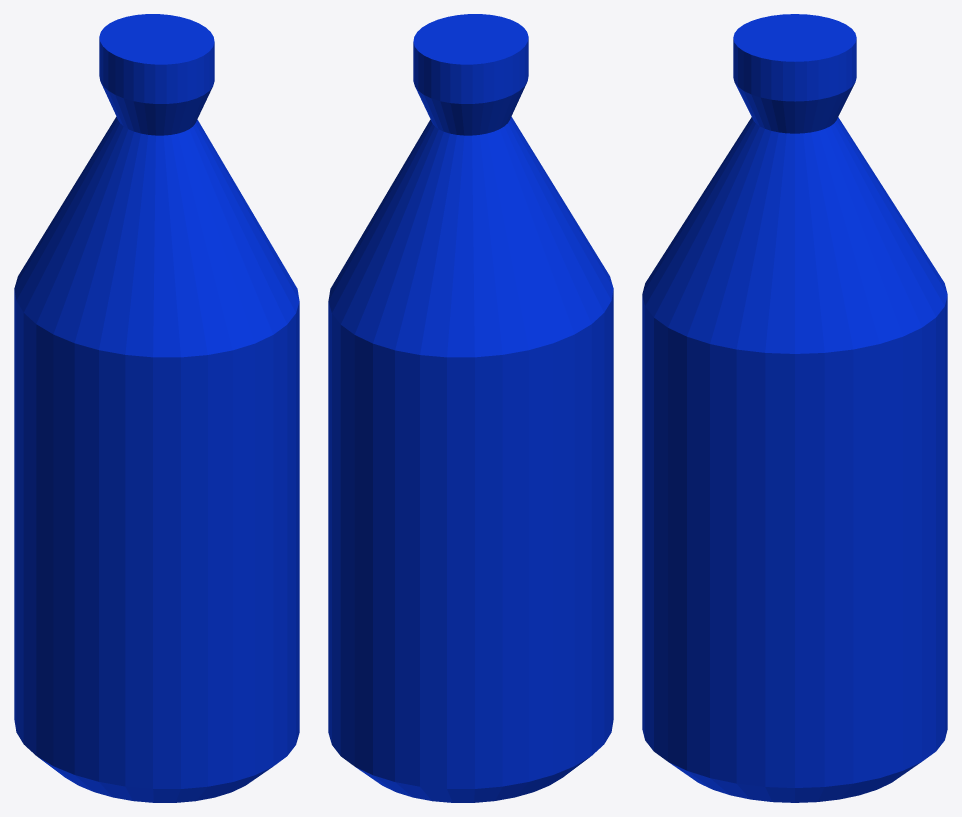
The model's file is item-water.glb.
3 views of the same model, side by side, from view 1: azimuth 30°, elevation 25°; view 2: azimuth 150°, elevation 25°; view 3: azimuth 270°, elevation 25° (orthographic).
Parts seen in each view (by area): view 1: 円柱.004; view 2: 円柱.004; view 3: 円柱.004.
Boxes of the visible parts, x1,y1,x2,y2 form: 円柱.004: (14, 14, 299, 802); 円柱.004: (328, 14, 613, 802); 円柱.004: (642, 14, 947, 802).
Bounding box in the file's own units: 0.3331 × 0.9442 × 0.3631.
